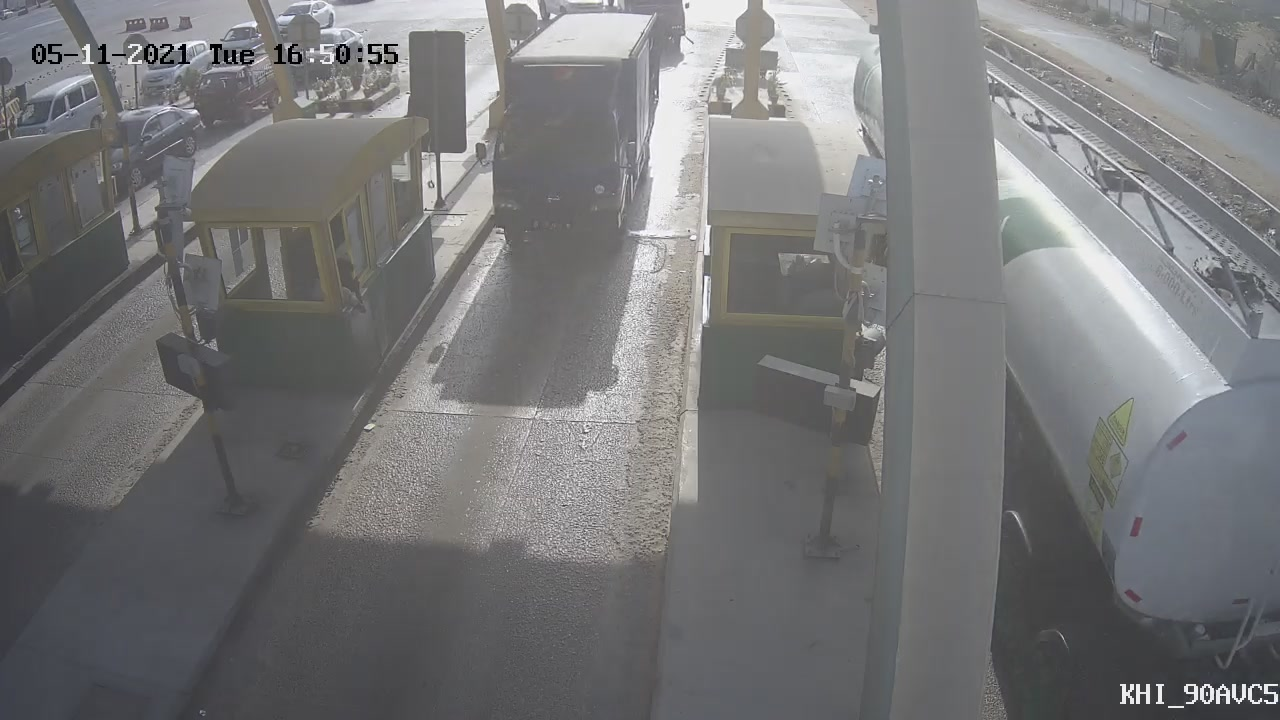F5: (451, 3, 679, 285)
